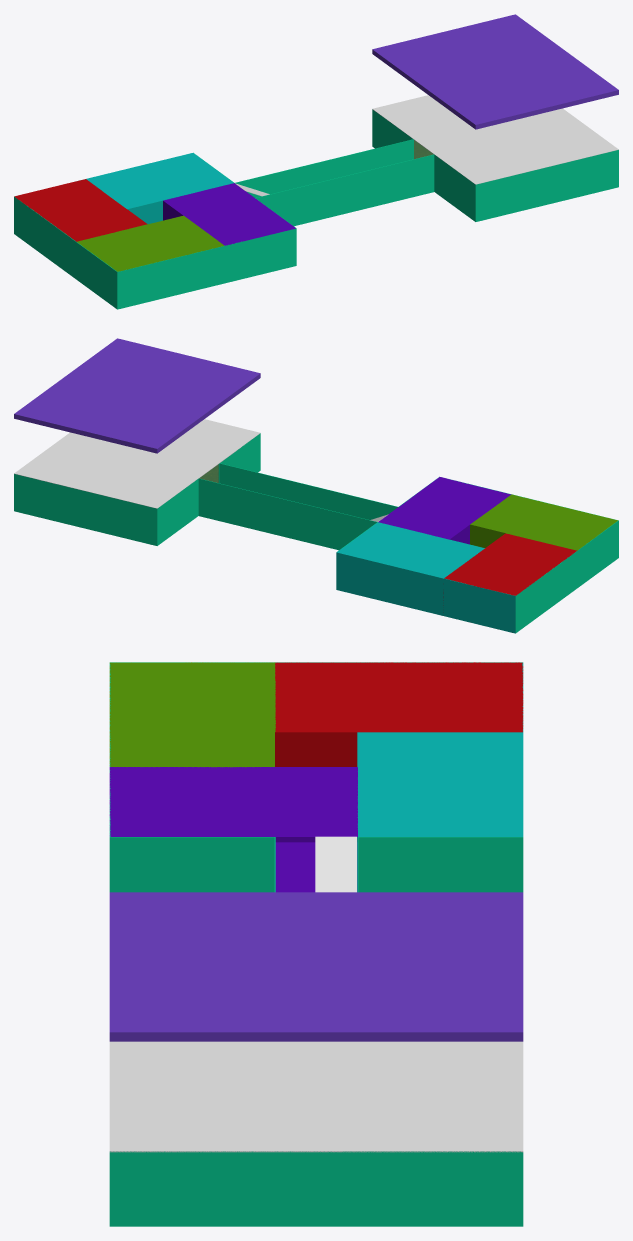
Rendered from walls4.glb.
3 renders of one model, top to bottom at view 1: azimuth 30°, elevation 25°; view 2: azimuth 150°, elevation 25°; view 3: azimuth 270°, elevation 25°, orthographic. The views are drawn at different scales.
Parts seen in each view (by area): view 1: Cube.006, Cube.001, Cube.018, Cube.008, Cube.005, FloorBaseGrass_01.001, FloorBaseGrass_01.004, FloorBaseGrass_01.003, FloorBaseGrass_01.002, Cube.015, Cube.002, Cube.009 (+2 smaller); view 2: Cube.006, Cube.001, Cube.014, Cube.002, Cube.003, FloorBaseGrass_01.002, FloorBaseGrass_01.001, FloorBaseGrass_01.004, FloorBaseGrass_01.003, Cube.015, Cube.008, Cube.007 (+2 smaller); view 3: Cube.006, Cube.001, Cube.004, FloorBaseGrass_01.002, FloorBaseGrass_01.004, FloorBaseGrass_01.001, FloorBaseGrass_01.003, Cube.012, Cube.016, Cube.020, Cube, FloorBaseGrass_01.006.
Part boxes in pixels (box(x1,y1,x2,y2)): Cube.006: box(372, 14, 618, 129); Cube.001: box(372, 95, 618, 184); Cube.018: box(117, 228, 296, 309); Cube.008: box(255, 154, 434, 226); Cube.005: box(475, 150, 618, 221); FloorBaseGrass_01.001: box(163, 183, 295, 245); FloorBaseGrass_01.004: box(77, 215, 224, 271); FloorBaseGrass_01.003: box(86, 153, 233, 208); FloorBaseGrass_01.002: box(14, 179, 146, 241); Cube.015: box(14, 196, 117, 308); Cube.002: box(235, 139, 413, 197); Cube.009: box(434, 155, 475, 221); Cube.006: box(14, 338, 260, 453); Cube.001: box(14, 419, 260, 508); Cube.014: box(336, 552, 515, 633); Cube.002: box(198, 478, 377, 550); Cube.003: box(14, 474, 157, 545); FloorBaseGrass_01.002: box(444, 533, 577, 595); FloorBaseGrass_01.001: box(378, 477, 510, 539); FloorBaseGrass_01.004: box(470, 494, 617, 550); FloorBaseGrass_01.003: box(337, 522, 484, 578); Cube.015: box(515, 520, 618, 632); Cube.008: box(219, 463, 397, 519); Cube.007: box(157, 479, 198, 545); Cube.006: box(109, 892, 523, 1041); Cube.001: box(109, 1041, 523, 1152); Cube.004: box(109, 1151, 523, 1226); FloorBaseGrass_01.002: box(275, 662, 523, 732); FloorBaseGrass_01.004: box(109, 662, 274, 767); FloorBaseGrass_01.001: box(109, 767, 357, 836); FloorBaseGrass_01.003: box(358, 732, 523, 836); Cube.012: box(358, 837, 523, 892); Cube.016: box(109, 837, 274, 892); Cube.020: box(275, 732, 357, 766); Cube: box(315, 836, 356, 892); FloorBaseGrass_01.006: box(275, 842, 357, 892).
Size of what is drawn, in the model's own units: 224 by 41.75 by 80.
Materials: 28 (2 with a texture image).
